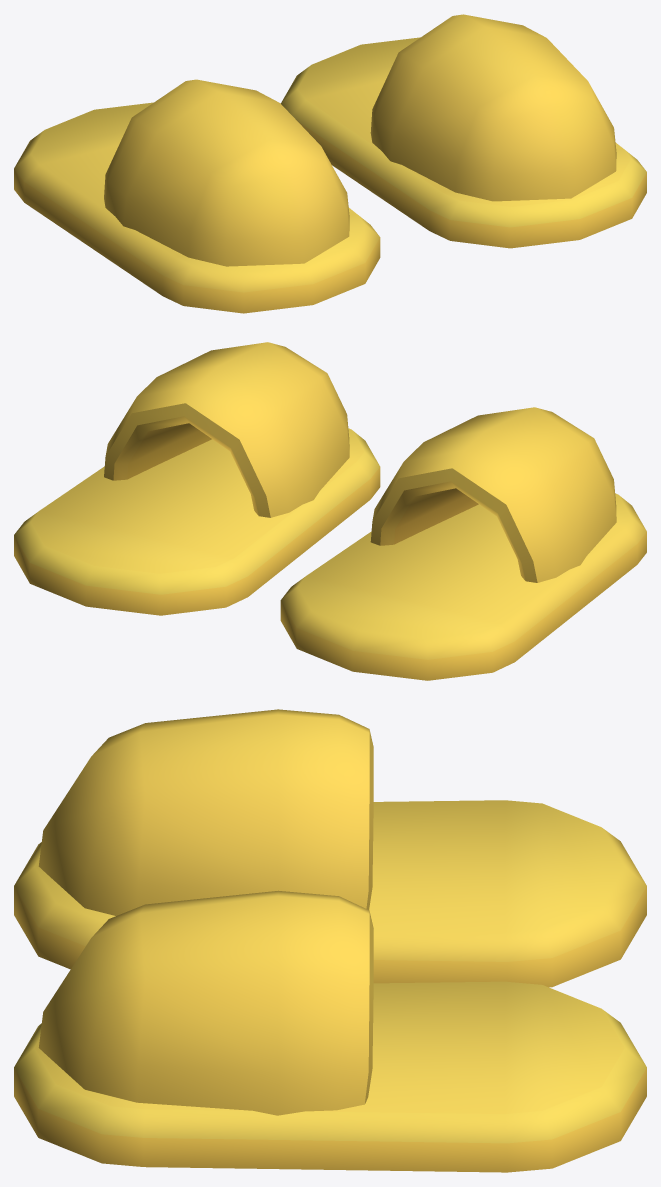
Rendered from slippers.glb.
The picture shows the model from 3 angles, top to bottom: view 1: azimuth 30°, elevation 25°; view 2: azimuth 150°, elevation 25°; view 3: azimuth 270°, elevation 25°; orthographic projection. The views are drawn at different scales.
Visible parts, largest first — view 1: slippers; view 2: slippers; view 3: slippers.
Part boxes in pixels (<box>): slippers: <box>14,14,646,313</box>; slippers: <box>14,342,646,680</box>; slippers: <box>14,709,646,1172</box>.
Bounding box in the file's own units: 0.3 × 0.0839 × 0.2406.
1 material, 1 textured.
